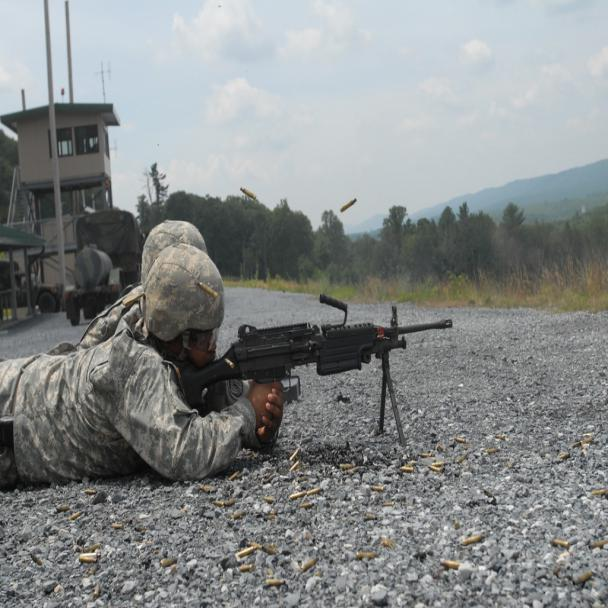Gun: (205, 289, 461, 386)
